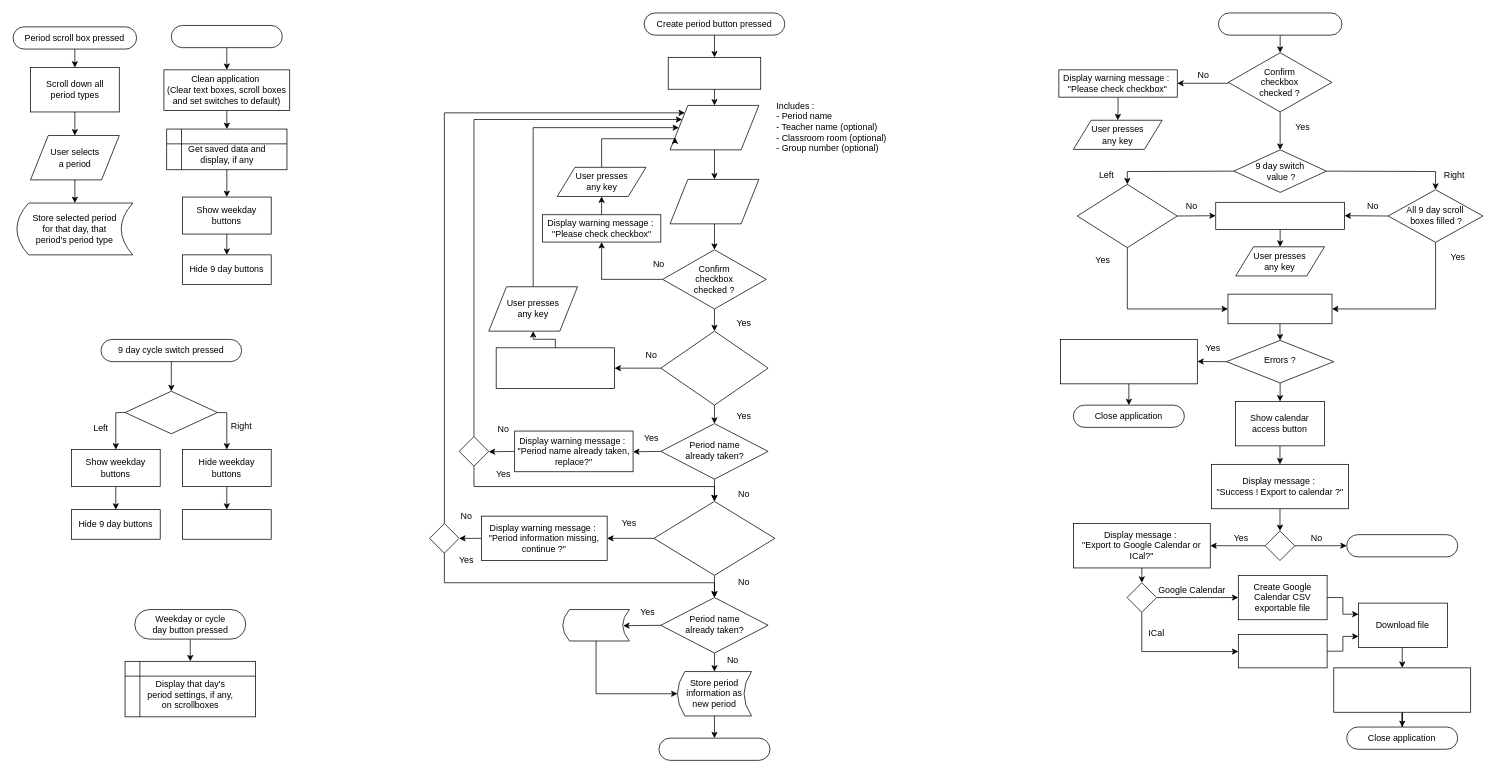
This 1496x773 diagram has some shape labels left out. Here are the shapes that lost their labels. From the top down, the centre of each, then its label:
point (226, 36): Application started
point (1280, 23): Generate button pressed
point (714, 73): Show create period alert dialog
point (714, 127): User inputs period information
point (714, 201): User presses create button
point (1127, 216): All weekday scroll boxes filled ?
point (1280, 216): Display warning message : "Some days may not be filled"
point (1279, 308): Call generate function with given information
point (555, 367): Display warning message : "Period name not entered"
point (714, 367): Period name has been entered?
point (1128, 361): Display message : "Something went wrong, please contact support"
point (171, 412): Switch value ?
point (226, 524): Show 9 day buttons
point (714, 538): Missing any optional information ?
point (1402, 545): Close dialog
point (595, 625): Delete old period
point (1282, 651): Create ICal CSV exportable file
point (1402, 689): Display message : "Please import file to your calendar application"
point (714, 748): Hide alert dialog
